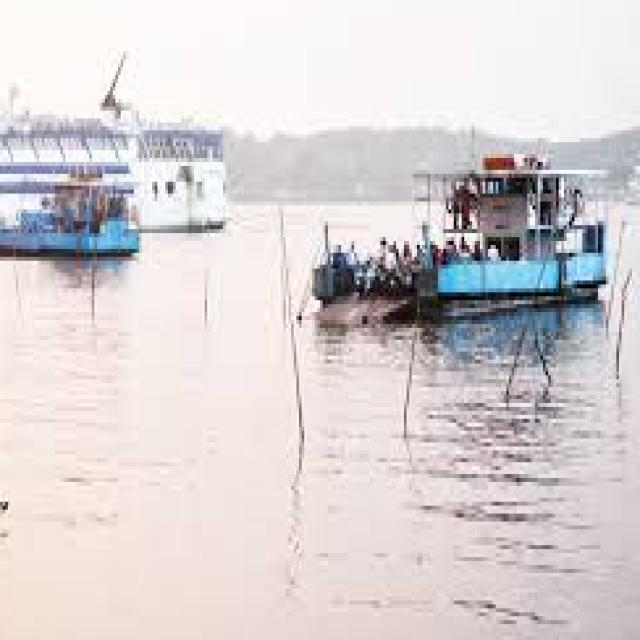cargoship: (0, 91, 236, 225)
fishing boat: (283, 122, 599, 299), (0, 166, 152, 253)
